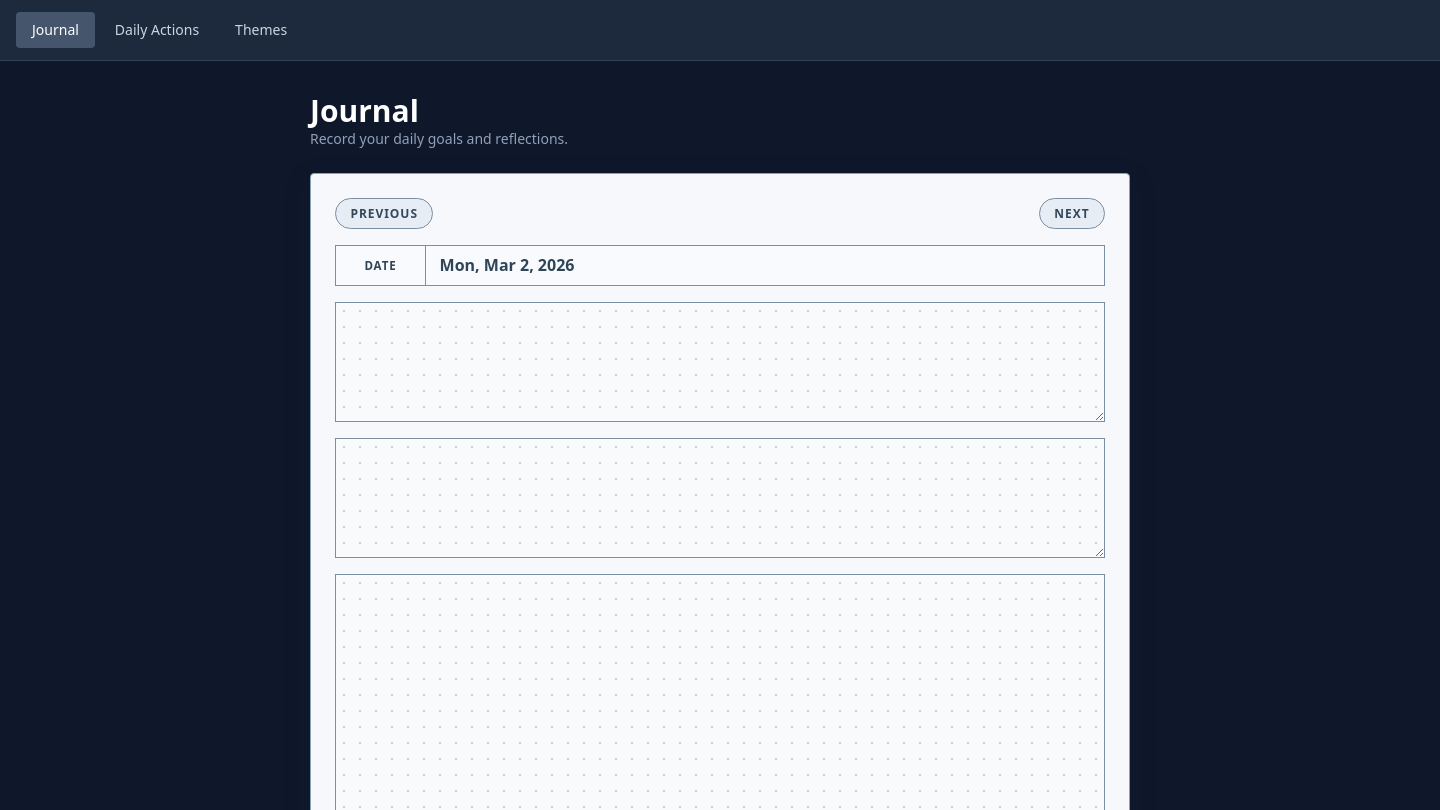
App › switches to Themes view when Themes tab is clicked
Click the tab with aria-label "Switch to Themes".
click(261, 30)  # box [219,12,303,48]
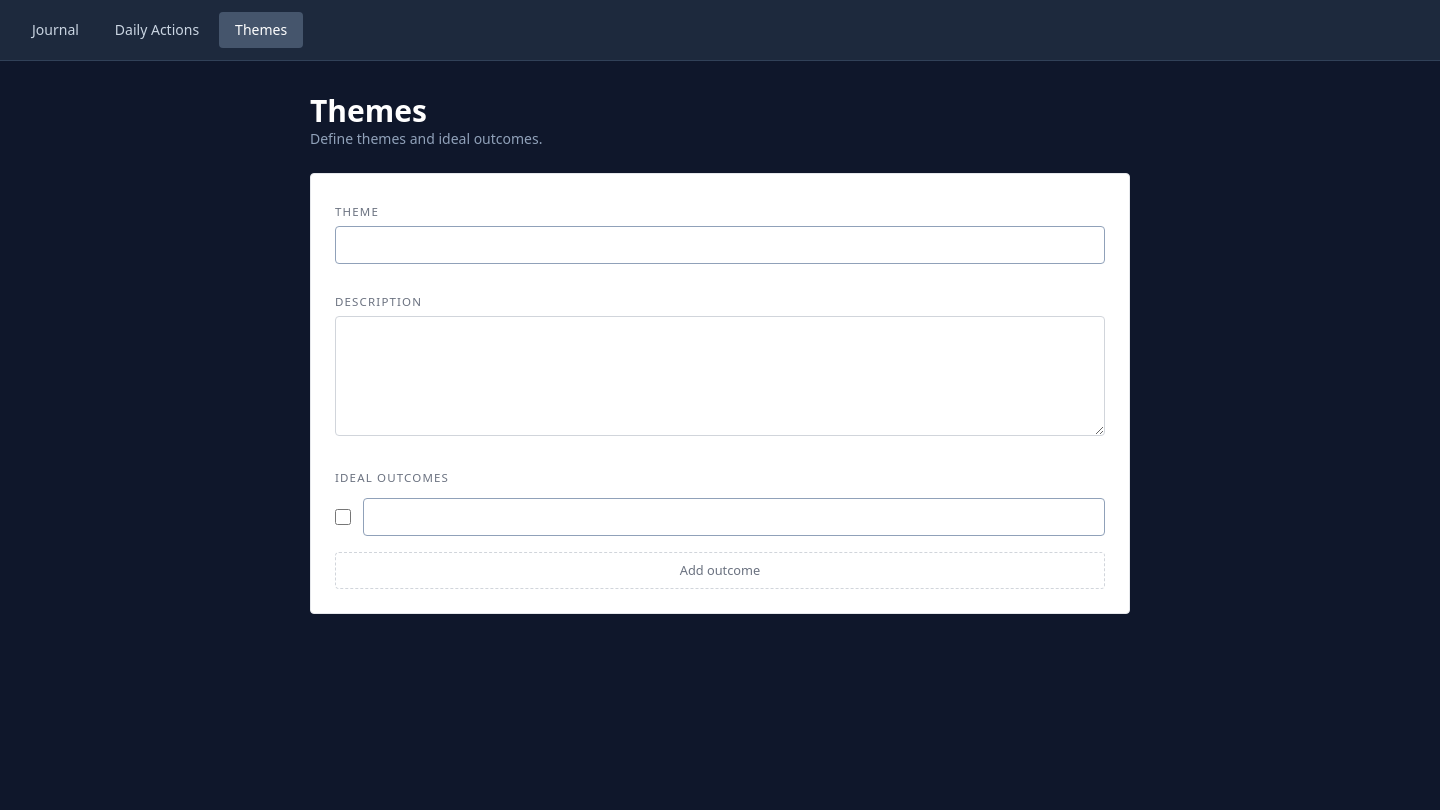
Now the text "THEME" is shown, box [335,204,379,219]
Now the text "DESCRIPTION" is shown, box [335,294,422,309]
Now the text "Ideal Outcomes" is shown, box [335,470,449,485]
